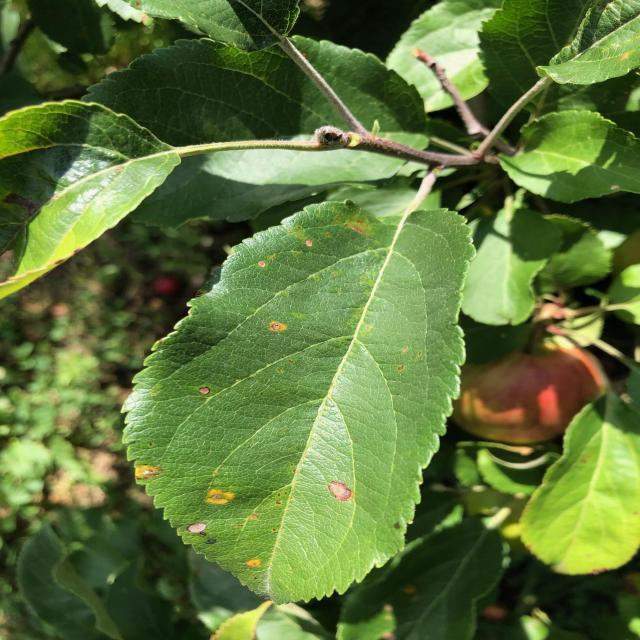Rust: (197, 475, 238, 520), (319, 481, 370, 512), (124, 462, 165, 486), (264, 315, 298, 341), (238, 550, 272, 573), (256, 253, 269, 281)
